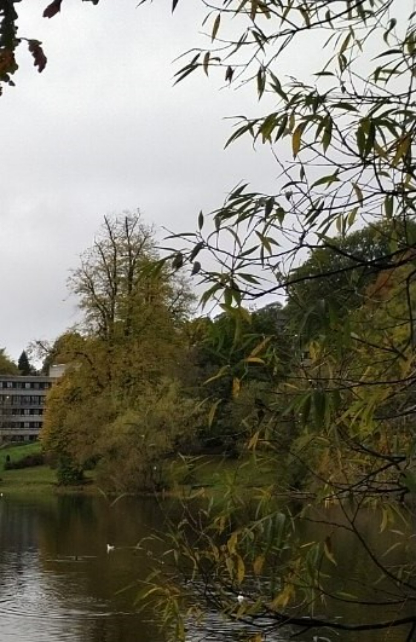tree: (43, 201, 199, 498)
